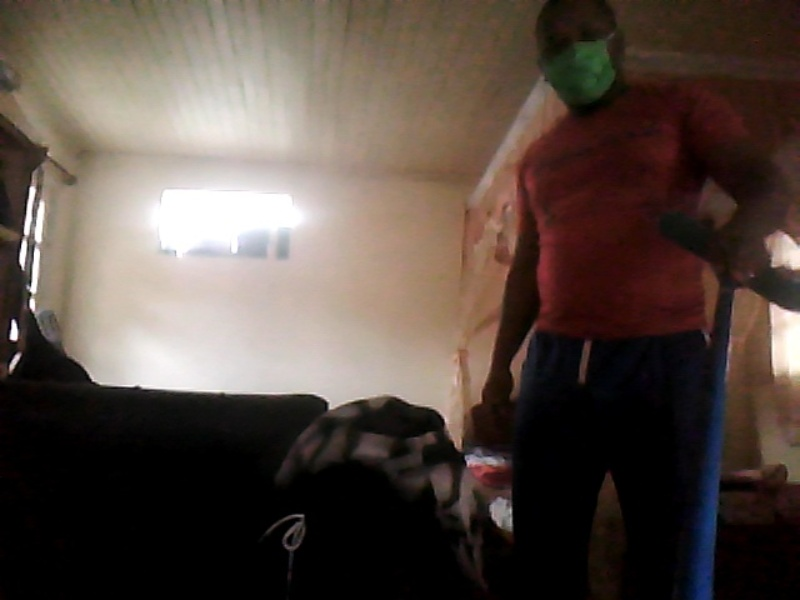ManaoArotava: (526, 4, 632, 111)
